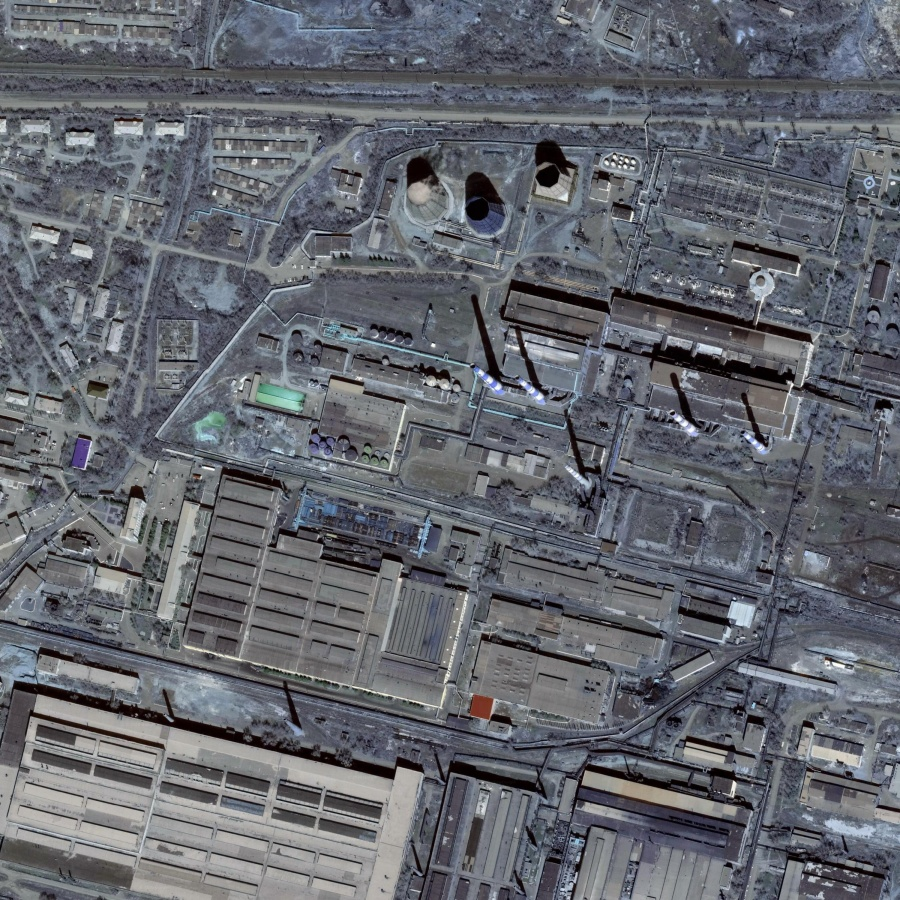PowerPlant: (393, 123, 807, 497)
